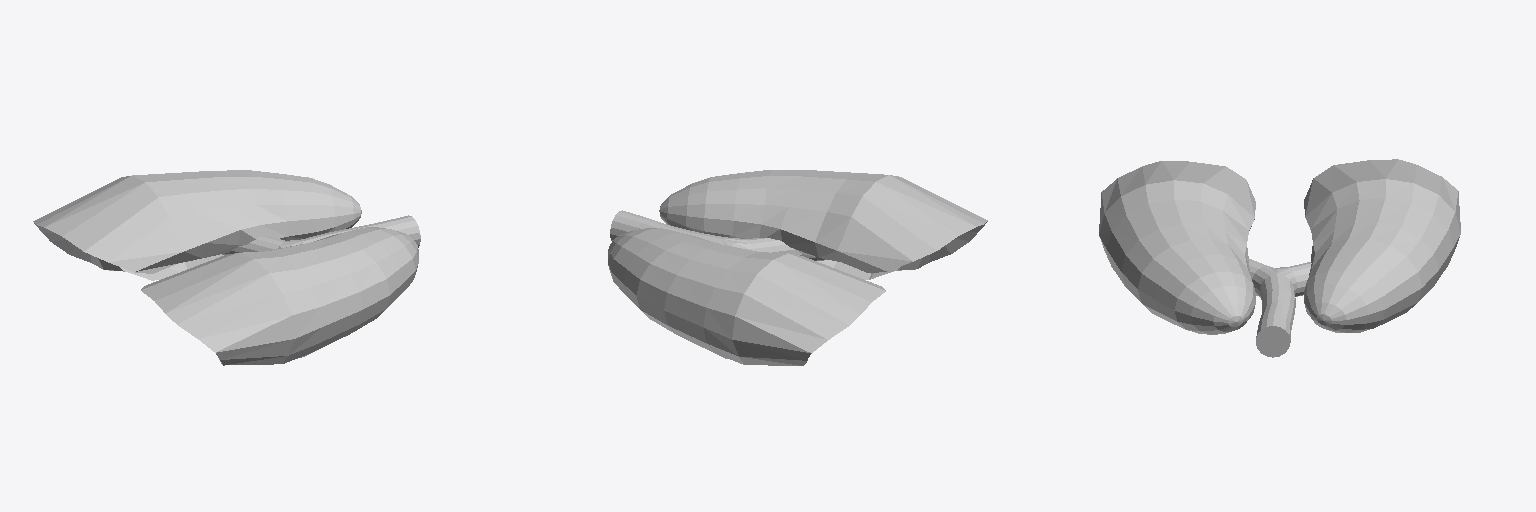
The model's file is gibs_1_002.obj.
3 renders of one model, left to right at view 1: azimuth 30°, elevation 25°; view 2: azimuth 150°, elevation 25°; view 3: azimuth 270°, elevation 25°, orthographic.
Parts seen in each view (by area): view 1: lungs_1_Lung_L_Sphere.001; view 2: lungs_1_Lung_L_Sphere.001; view 3: lungs_1_Lung_L_Sphere.001.
Part boxes in pixels (left/top/right/bottom): lungs_1_Lung_L_Sphere.001: left=33, top=170, right=420, bottom=365; lungs_1_Lung_L_Sphere.001: left=608, top=170, right=987, bottom=365; lungs_1_Lung_L_Sphere.001: left=1099, top=159, right=1460, bottom=357.
Size of the model in its own units: 0.9395 by 0.2881 by 0.9658.